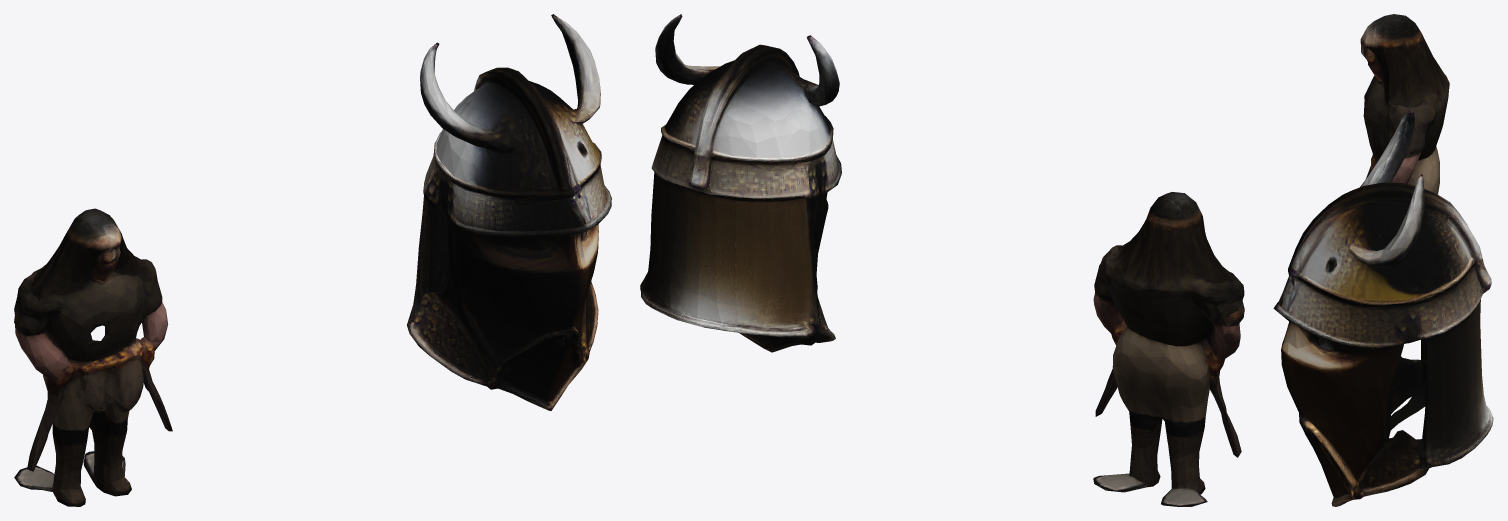
File: trellis_result.glb
3 renders of one model, left to right at view 1: azimuth 30°, elevation 25°; view 2: azimuth 150°, elevation 25°; view 3: azimuth 270°, elevation 25°, orthographic.
Parts seen in each view (by area): view 1: world; view 2: world; view 3: world.
Part boxes in pixels (bbox=[...]): world: bbox=[14, 14, 611, 506]; world: bbox=[640, 14, 1244, 506]; world: bbox=[1273, 14, 1493, 506].
Bounding box in the file's own units: 0.7802 × 0.4639 × 0.2537.
Materials: 1 (1 with a texture image).
